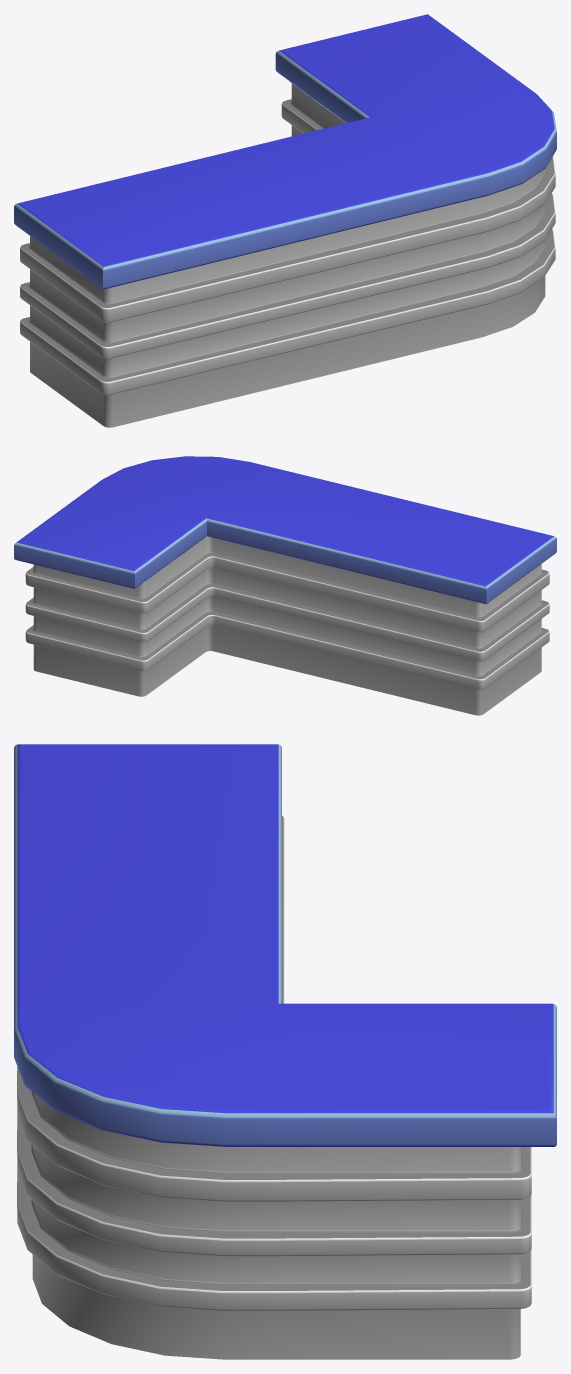
The model's file is CustomerTable.fbx.
The picture shows the model from 3 angles, top to bottom: view 1: azimuth 30°, elevation 25°; view 2: azimuth 150°, elevation 25°; view 3: azimuth 270°, elevation 25°; orthographic projection. The views are drawn at different scales.
Parts seen in each view (by area): view 1: TableUnder, TableUpside; view 2: TableUnder, TableUpside; view 3: TableUpside, TableUnder.
Boxes of the visible parts, x1=… form: TableUnder: x1=20, y1=81, x2=555, y2=427; TableUpside: x1=14, y1=14, x2=556, y2=289; TableUnder: x1=25, y1=536, x2=549, y2=715; TableUpside: x1=14, y1=456, x2=556, y2=603; TableUpside: x1=14, y1=744, x2=556, y2=1146; TableUnder: x1=17, y1=815, x2=531, y2=1359.
Size of the model in its own units: 730 by 232 by 451.
